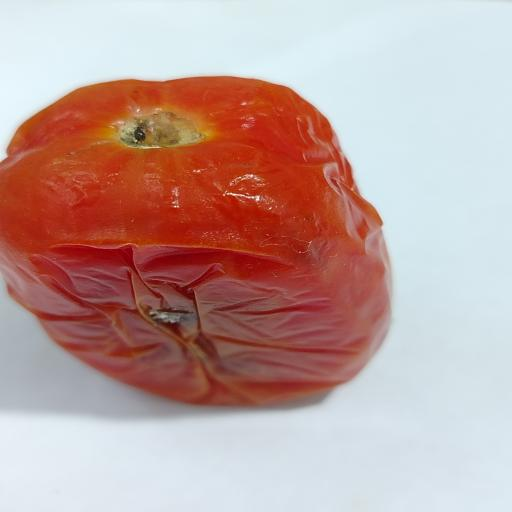spoiled: (0, 77, 391, 405)
